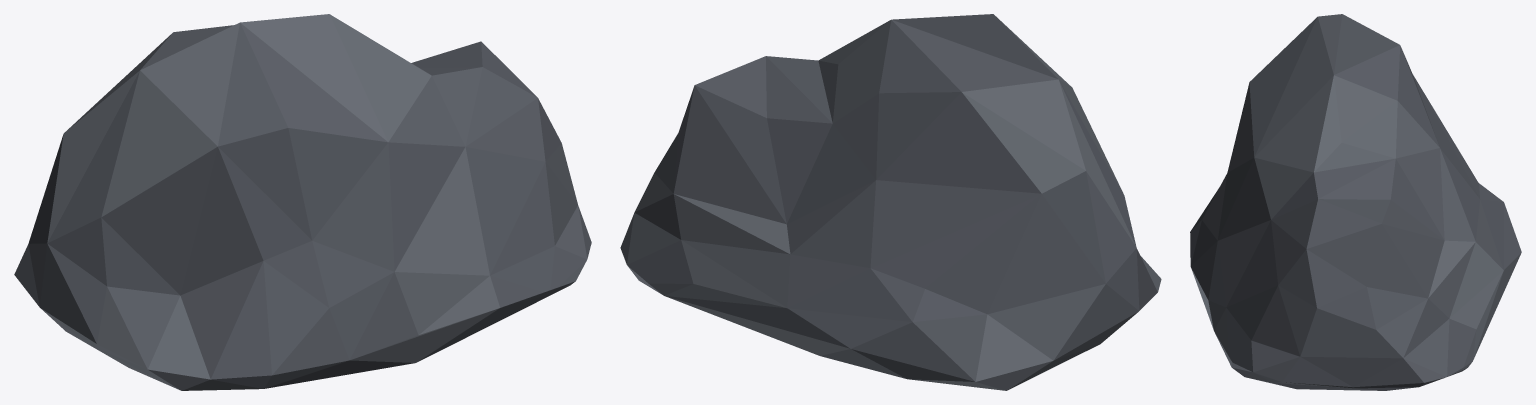
Rendered from WF_LP_HT_Environment_Cloud.004.fbx.
The picture shows the model from 3 angles, left to right: view 1: azimuth 30°, elevation 25°; view 2: azimuth 150°, elevation 25°; view 3: azimuth 270°, elevation 25°; orthographic projection. The views are drawn at different scales.
Visible parts, largest first — view 1: WF_LP_HT_Environment_Cloud.004; view 2: WF_LP_HT_Environment_Cloud.004; view 3: WF_LP_HT_Environment_Cloud.004.
Part boxes in pixels (box(x1,y1,x2,y2)): WF_LP_HT_Environment_Cloud.004: box(14, 14, 591, 390); WF_LP_HT_Environment_Cloud.004: box(620, 14, 1161, 390); WF_LP_HT_Environment_Cloud.004: box(1190, 14, 1521, 390).
Size of the model in its own units: 2.08 by 1.33 by 1.42.
